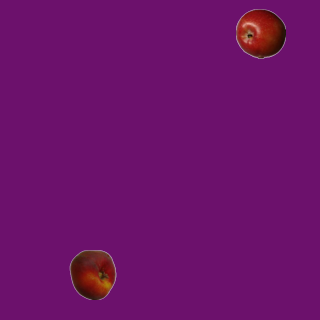Apple Braeburn: (235, 8, 285, 58)
Nectarine Flat: (67, 249, 117, 299)
